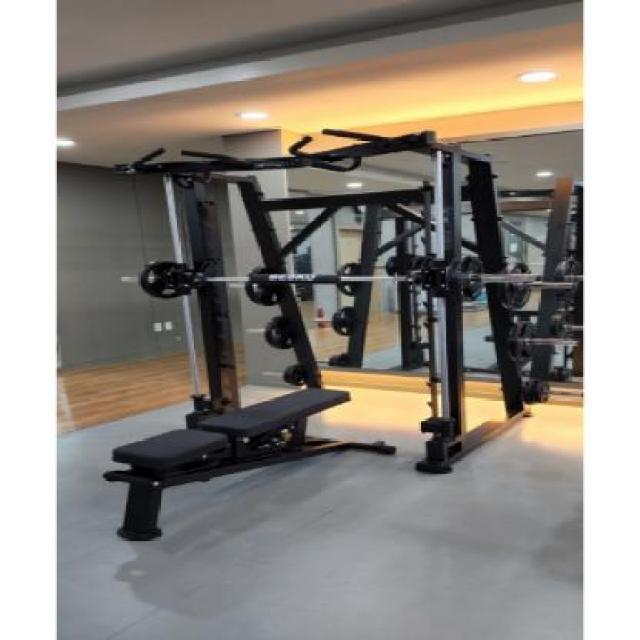smith machine: (135, 130, 534, 476)
